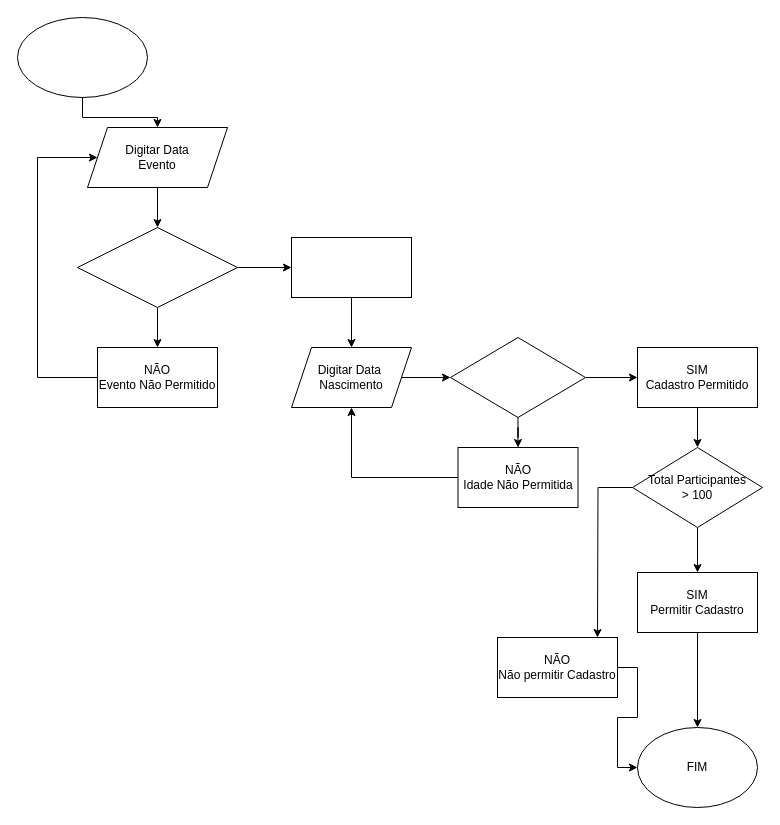
Some shapes in this 780 by 825 pixel diagram are drawn without their labels. Each missing label, with the centre of its shape:
"Data Evento > Data Atual" belongs at point (157, 267).
"Idade > 18" belongs at point (518, 377).
"Inicio" belongs at point (82, 57).
"SIM Evento Permitido" belongs at point (351, 267).
